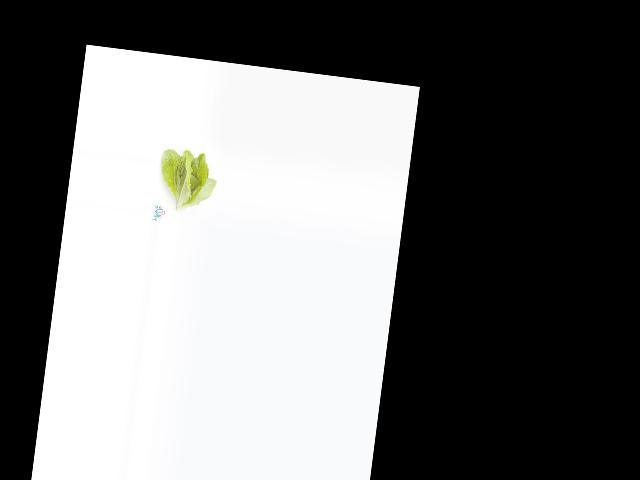lettuce: (156, 145, 221, 215)
